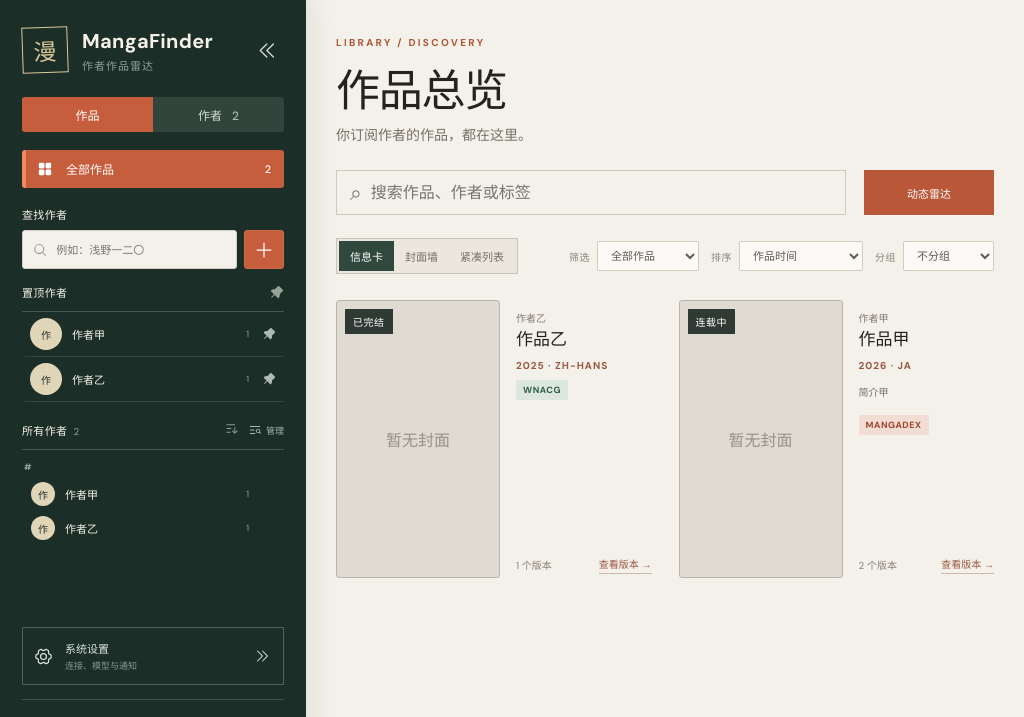
Scenario: catalog views › switches display mode, filters works, and groups by author
expect the heading "作品甲" is shown: met, box [858,330,910,349]
expect the dropdown labelled "排序" shows "作品时间": met, box [739,241,863,271]
Click the button "封面墙" at (422, 256), box [394,241,449,271]
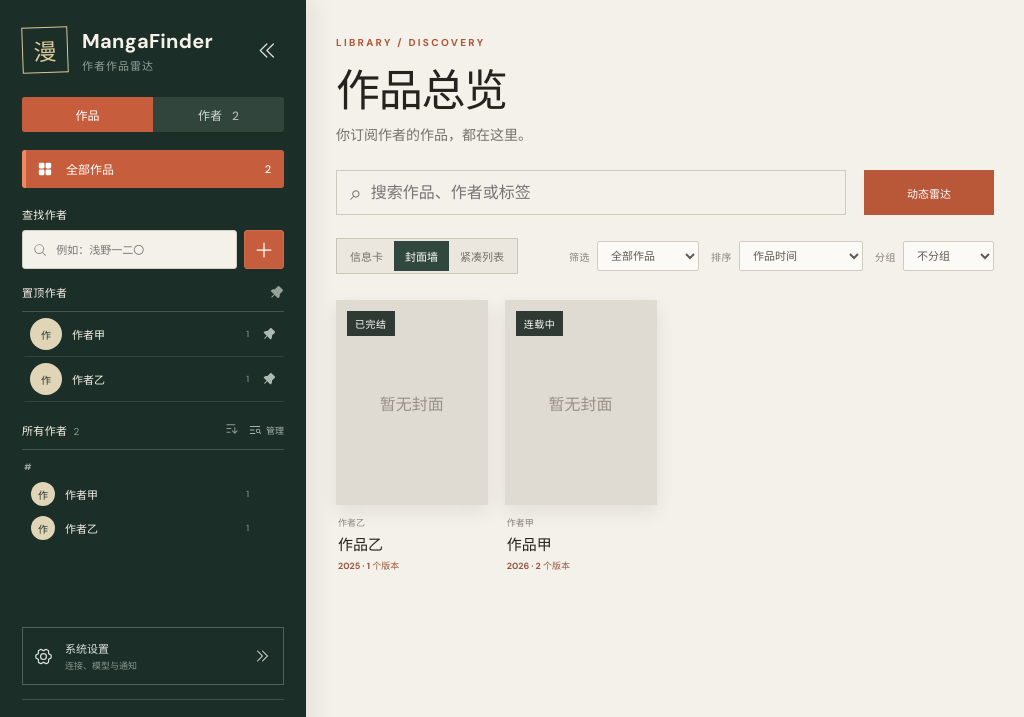
expect the button with aria-label "查看《作品甲》" is shown: met, box [505,300,657,572]
Select "多版本" in the dropdown labelled "筛选" at (648, 256), box [597,241,699,271]
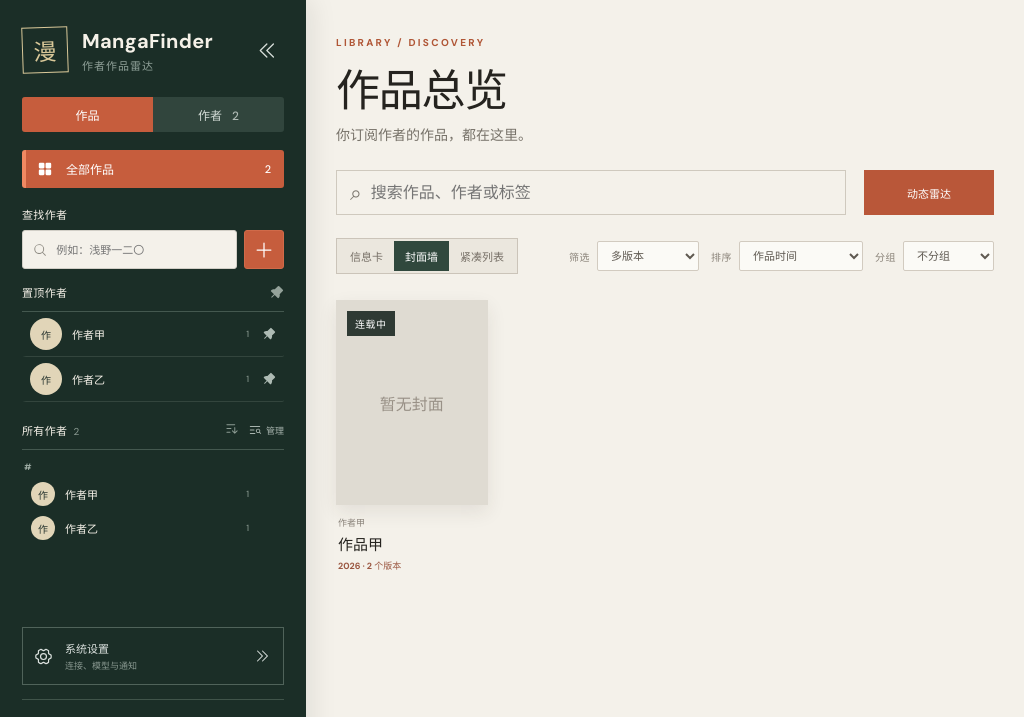
expect the text "作品甲" is shown: met, box [338,537,383,553]
expect the button "作品乙" is gone: met
Select "全部作品" in the dropdown labelled "筛选" at (648, 256), box [597,241,699,271]
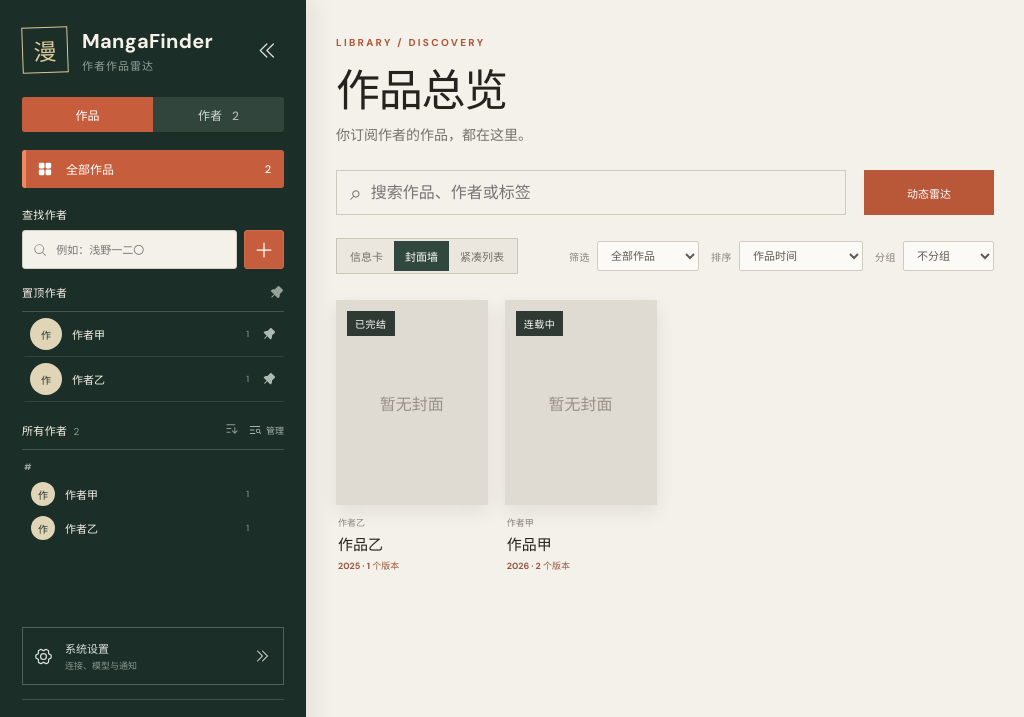
Select "按作者" in the dropdown labelled "分组" at (948, 256), box [903,241,994,271]
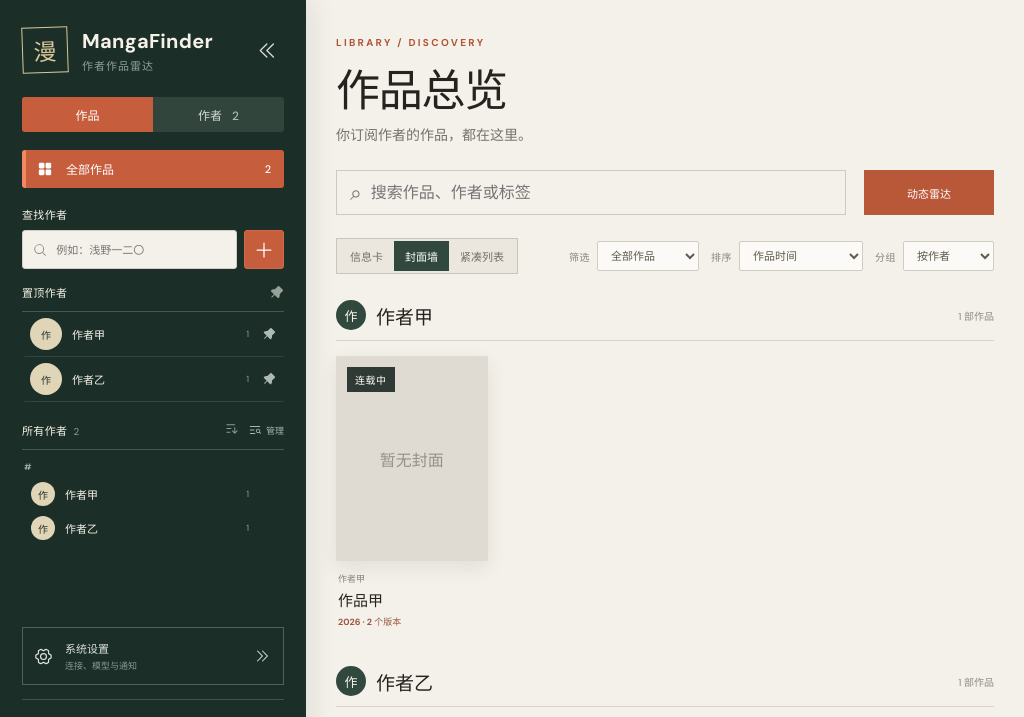
expect the heading "作者甲" is shown: met, box [376,302,433,329]
expect the heading "作者乙" is shown: met, box [376,668,433,695]
